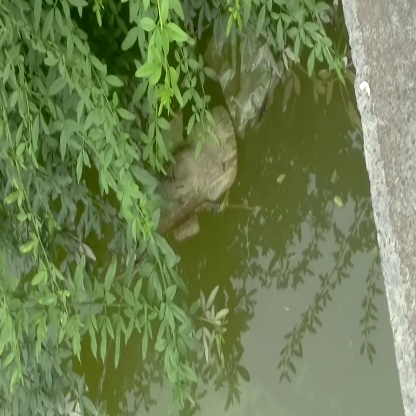plastic-bag: (208, 24, 292, 139)
